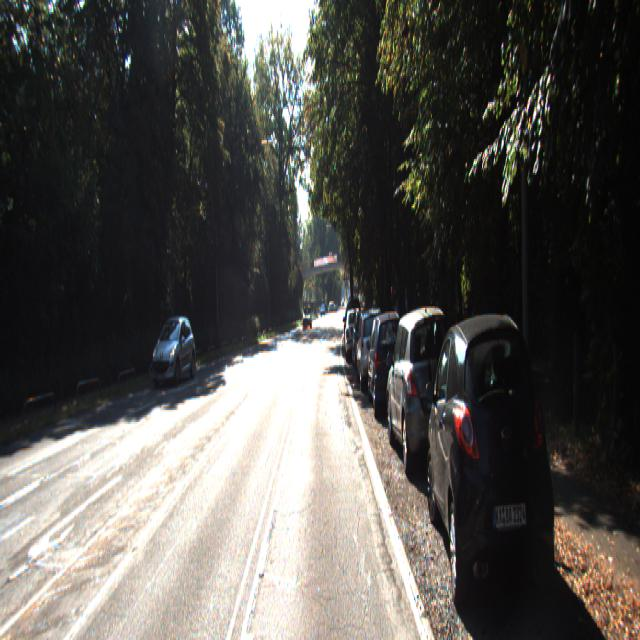Car: (424, 306, 564, 632), (386, 303, 466, 477), (366, 304, 410, 412), (150, 313, 197, 386), (355, 304, 390, 388), (345, 307, 364, 361)
